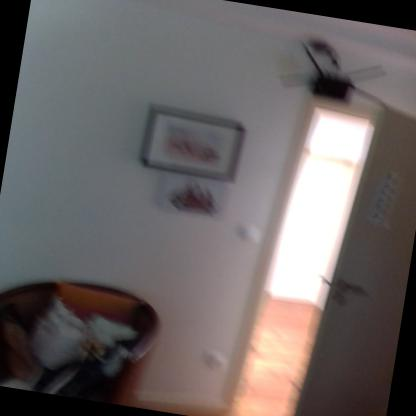semi: (219, 69, 415, 415)
